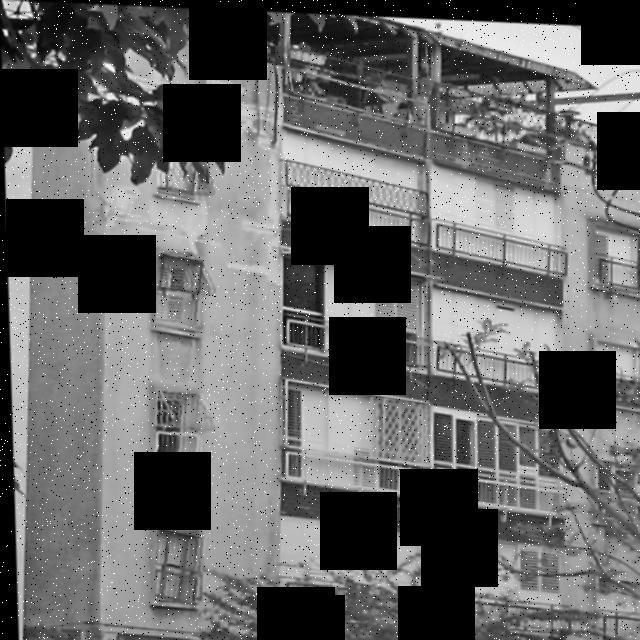Window: (148, 249, 208, 327), (154, 122, 210, 200), (148, 389, 203, 467), (151, 524, 204, 600)
